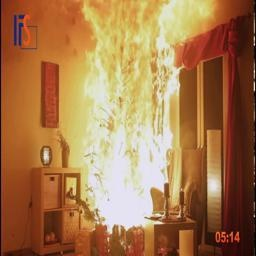fire: (55, 0, 230, 234)
